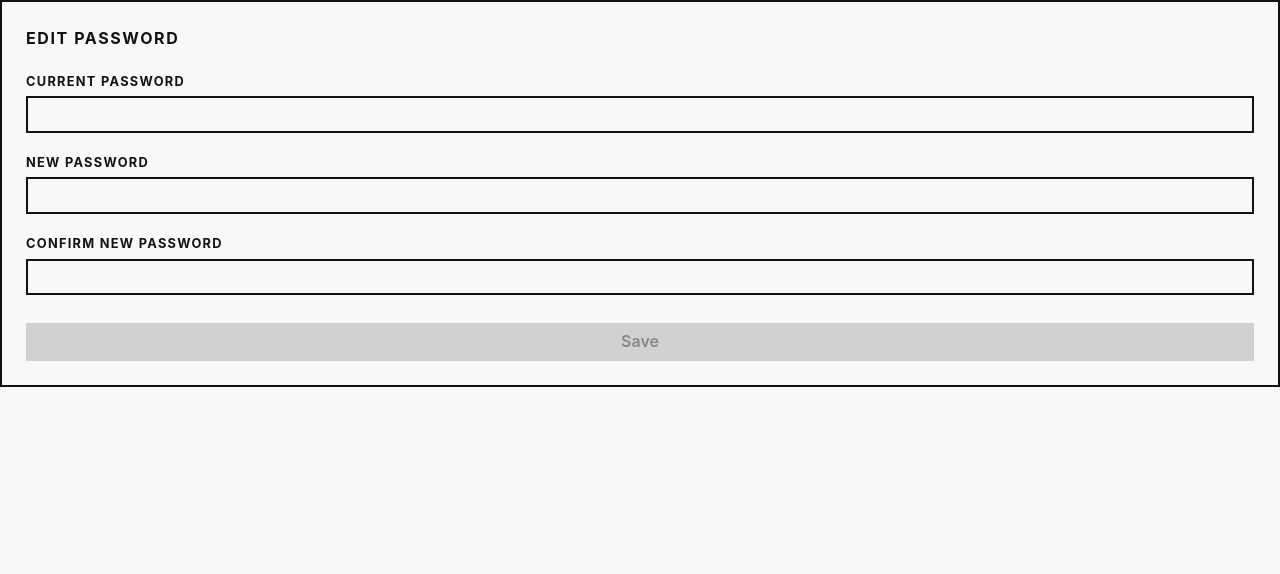
Test: renders password requirements when new password is not empty
The width and height of the screenshot is (1280, 574).
Step 1. Type "blah" into the password field named "newPassword" → x=640, y=196, box [26,177,1254,214]
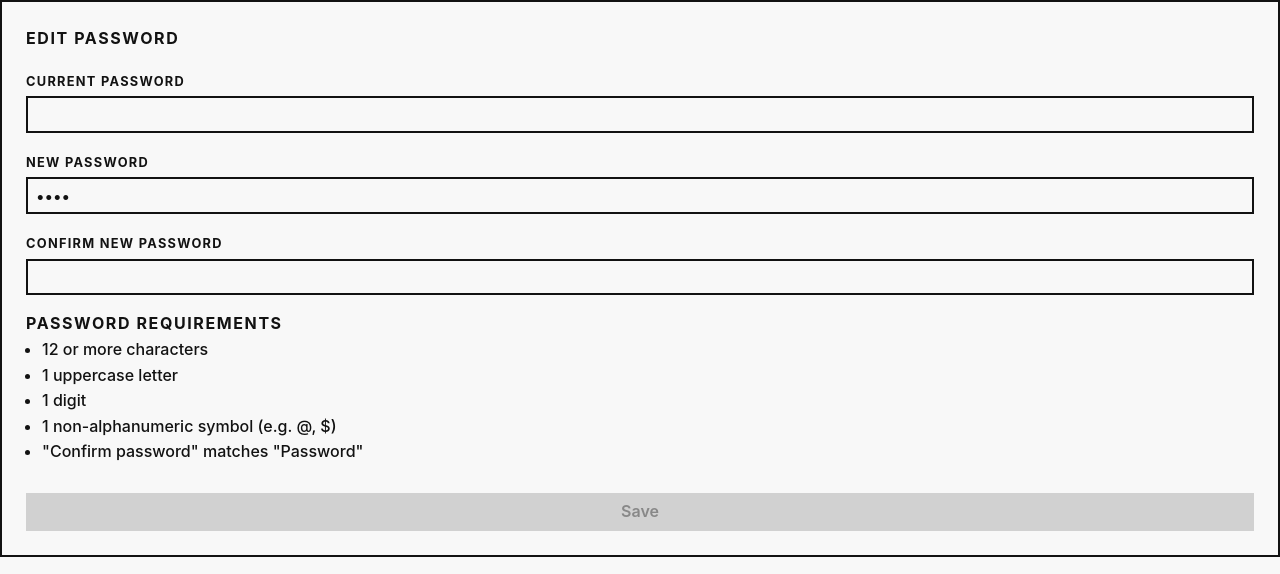
Check: the element that starts with "Password requirements" is shown, box [26,313,364,461]
